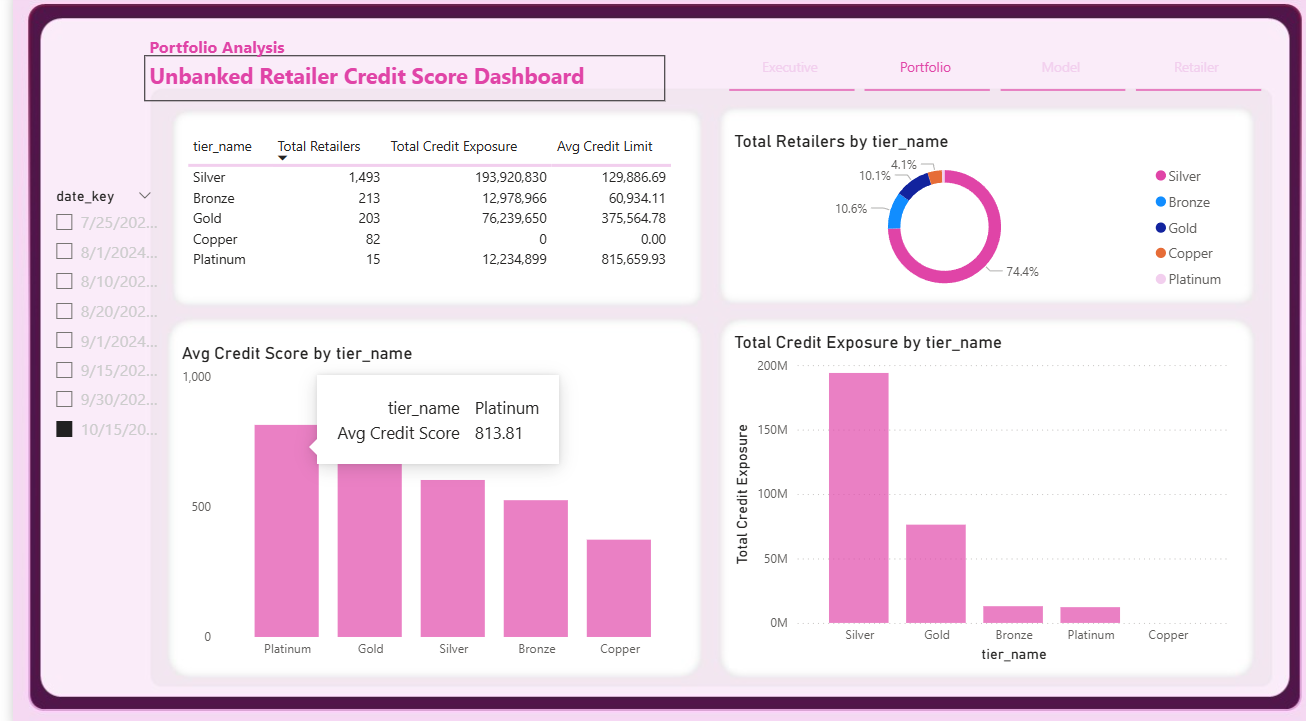

The page's visual inventory and layout, read from the dashboard file:
{"tool":"powerbi","page":{"name":"Portfolio","canvas":[1280,720],"ordinal":1},"visuals":[{"type":"tableEx","fields":{"Values":["gold_dim_risk_tier.tier_name","_basic_count.Total Retailers","credit_exposure_metrics.Total Credit Exposure","credit_exposure_metrics.Avg Credit Limit"]},"box":[165.6,133.7,495.7,170.6],"z":0},{"type":"slicer","fields":{"Values":["gold_fact_credit_scoring.date_key"]},"box":[29.4,185.3,119,269.9],"z":1000},{"type":"clusteredColumnChart","fields":{"Y":["model_performance_metrics.Avg Credit Score"],"Category":["gold_dim_risk_tier.tier_name"]},"box":[160.7,342.3,505.5,319],"z":2000},{"type":"donutChart","fields":{"Category":["gold_dim_risk_tier.tier_name"],"Y":["_basic_count.Total Retailers"]},"box":[703.1,133.7,496.9,170.6],"z":3000},{"type":"columnChart","fields":{"Y":["credit_exposure_metrics.Total Credit Exposure"],"Category":["gold_dim_risk_tier.tier_name"]},"box":[703.1,331.3,496.9,330.1],"z":4000},{"type":"pageNavigator","box":[703.1,44.2,522.7,51.5],"z":5000},{"type":"textbox","box":[128.8,60.1,511.7,45.4],"z":6000},{"type":"textbox","box":[128.8,35.6,463.8,47.9],"z":7000}]}

Visuals, with their boxes on the page's 1280x720 design canvas (x1, y1, x2, y2). These are canvas units, not pixel positions in the 1306x721 screenshot, which may show the page scaled, cropped or inside an application window:
tableEx - gold_dim_risk_tier.tier_name x _basic_count.Total Retailers: l=166, t=134, r=661, b=304
slicer - gold_fact_credit_scoring.date_key: l=29, t=185, r=148, b=455
clusteredColumnChart - model_performance_metrics.Avg Credit Score x gold_dim_risk_tier.tier_name: l=161, t=342, r=666, b=661
donutChart - gold_dim_risk_tier.tier_name x _basic_count.Total Retailers: l=703, t=134, r=1200, b=304
columnChart - credit_exposure_metrics.Total Credit Exposure x gold_dim_risk_tier.tier_name: l=703, t=331, r=1200, b=661
pageNavigator: l=703, t=44, r=1226, b=96
textbox: l=129, t=60, r=640, b=106
textbox: l=129, t=36, r=593, b=84
